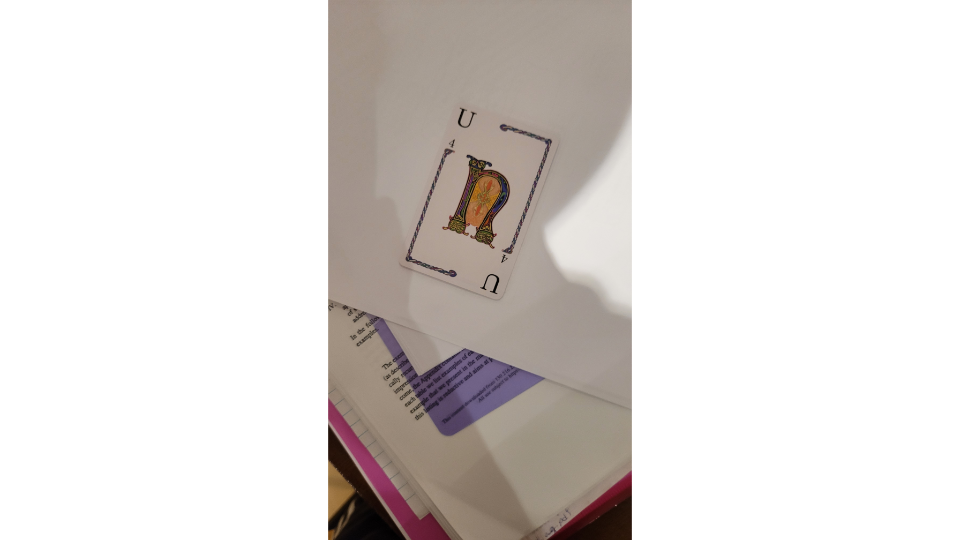U: (393, 96, 561, 304)
